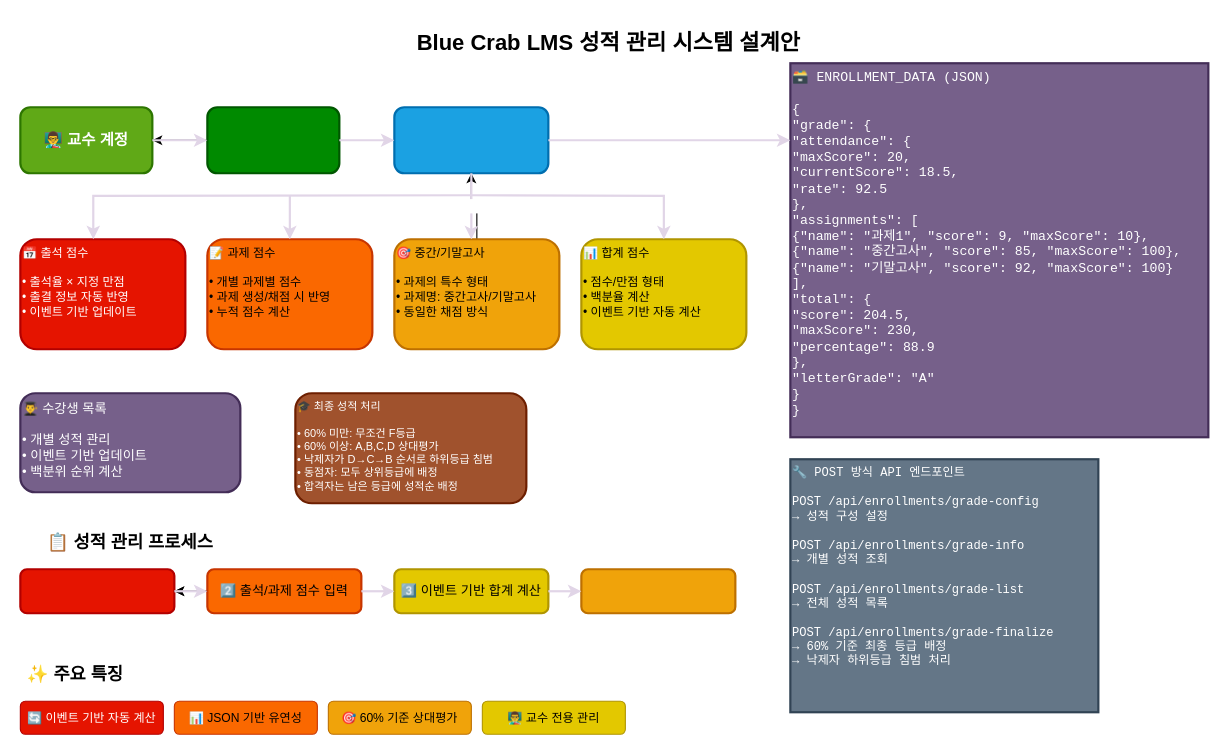
Image size: 1228x754. Some labels were removed from this diagram. The centre of each missing label's shape, as x and y in pixels:
1️⃣ 성적 구성 설정: the point at 97,591
4️⃣ 60% 기준 등급 배정: the point at 658,591
담당 강의 선택: the point at 273,140
📊 성적 구성 설정: the point at 471,140
